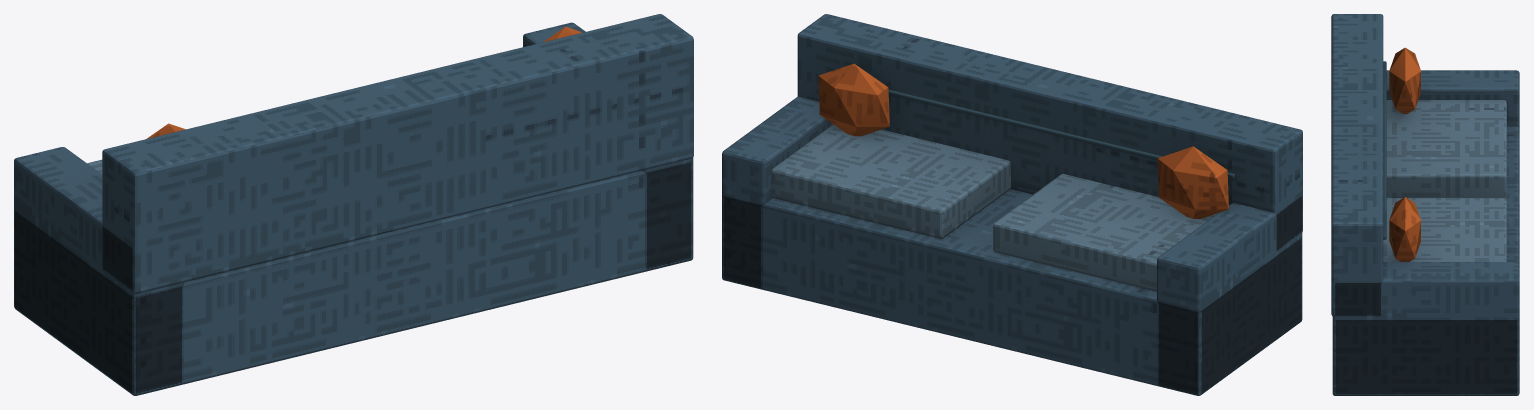
File: base_sofa.glb
3 renders of one model, left to right at view 1: azimuth 30°, elevation 25°; view 2: azimuth 150°, elevation 25°; view 3: azimuth 270°, elevation 25°, orthographic. The views are drawn at different scales.
Parts seen in each view (by area): view 1: base_sofa; view 2: base_sofa; view 3: base_sofa.
Part boxes in pixels (x1,y1,x2,y2): base_sofa: (14, 14, 693, 395); base_sofa: (722, 14, 1302, 395); base_sofa: (1331, 14, 1519, 395).
Size of the model in its own units: 2.4 by 0.92 by 0.905.
Materials: 4 (4 with a texture image).
